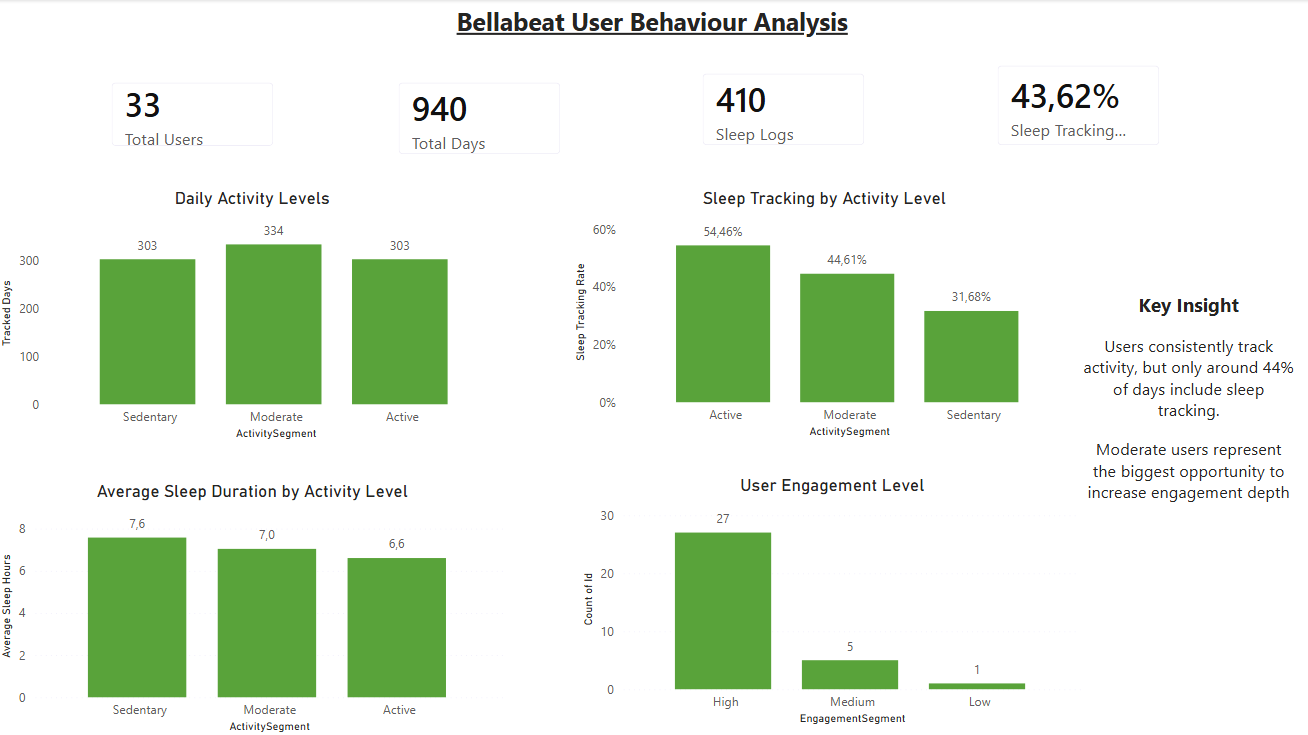

The dashboard page shown, as its layout file describes it:
{"tool":"powerbi","page":{"name":"Page 1","canvas":[1280,720],"ordinal":0},"visuals":[{"type":"cardVisual","fields":{"Data":["BellaBeat_Daily.Total Users"]},"box":[96,64,192,96],"z":0},{"type":"cardVisual","fields":{"Data":["BellaBeat_Daily.Total Days"]},"box":[376,64,192,104],"z":1000},{"type":"cardVisual","fields":{"Data":["BellaBeat_Daily.Sleep Logs"]},"box":[672,56,192,104],"z":2000},{"type":"cardVisual","fields":{"Data":["BellaBeat_Daily.Sleep Tracking Rate"]},"box":[960,48,192,112],"z":3000},{"type":"clusteredColumnChart","title":"Daily Activity Levels","fields":{"Category":["BellaBeat_Daily.ActivitySegment"],"Y":["CountNonNull(BellaBeat_Daily.TotalSteps)"]},"box":[0,184,500,250],"z":4000},{"type":"clusteredColumnChart","title":"Sleep Tracking by Activity Level","fields":{"Category":["BellaBeat_Daily.ActivitySegment"],"Y":["BellaBeat_Daily.Sleep Tracking Rate"]},"box":[560,184,496,248],"z":5000},{"type":"clusteredColumnChart","title":"Average Sleep Duration by Activity Level","fields":{"Y":["BellaBeat_Daily.Average Sleep Hours"],"Category":["BellaBeat_Daily.ActivitySegment"]},"box":[0,470,500,250],"z":6000},{"type":"clusteredColumnChart","title":"User Engagement Level","fields":{"Category":["BellaBeat_Daily.EngagementSegment"],"Y":["Count(BellaBeat_Daily.Id)"]},"box":[568,464,496,248],"z":7000},{"type":"textbox","box":[432,0,416,48],"z":8000},{"type":"textbox","box":[1056,280,216,376],"z":8001}]}

Visuals, with their boxes in screenshot pixels (x1, y1, x2, y2), scaled from the page's 1280x720 canvas onto the 1308x735 screenshot:
cardVisual - BellaBeat_Daily.Total Users: detection(98, 65, 294, 163)
cardVisual - BellaBeat_Daily.Total Days: detection(384, 65, 580, 172)
cardVisual - BellaBeat_Daily.Sleep Logs: detection(687, 57, 883, 163)
cardVisual - BellaBeat_Daily.Sleep Tracking Rate: detection(981, 49, 1177, 163)
"Daily Activity Levels" clusteredColumnChart: detection(0, 188, 511, 443)
"Sleep Tracking by Activity Level" clusteredColumnChart: detection(572, 188, 1079, 441)
"Average Sleep Duration by Activity Level" clusteredColumnChart: detection(0, 480, 511, 734)
"User Engagement Level" clusteredColumnChart: detection(580, 474, 1087, 727)
textbox: detection(441, 0, 867, 49)
textbox: detection(1079, 286, 1300, 670)
